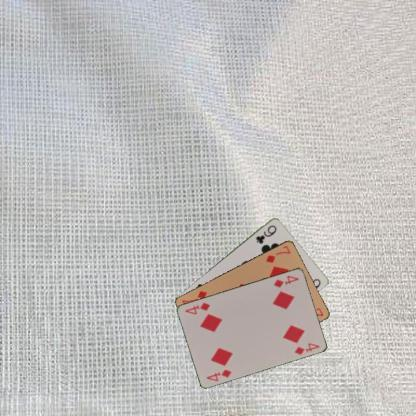4d: (271, 273, 300, 289), (204, 366, 233, 382)
7d: (263, 242, 292, 264)
9c: (253, 222, 278, 245)
